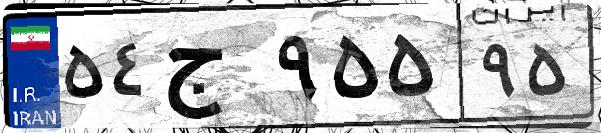4: (110, 28, 158, 98)
5: (385, 28, 445, 110), (330, 28, 385, 110), (57, 26, 110, 100), (525, 38, 570, 115)
9: (270, 28, 330, 110), (475, 38, 525, 113)
ج: (158, 20, 270, 120)
